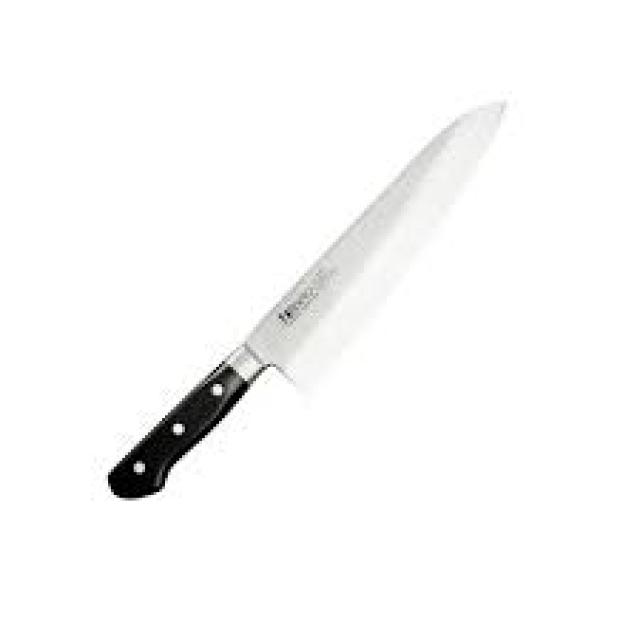Knife: (108, 102, 503, 498)
